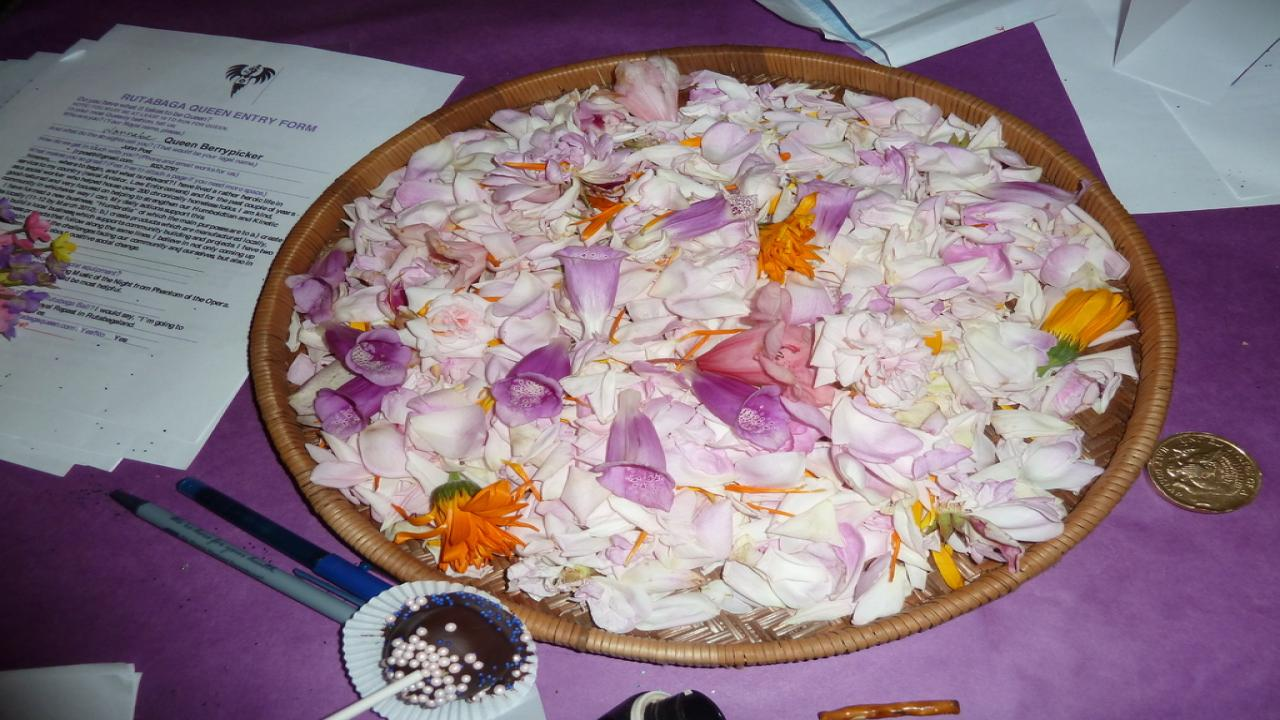coin: (1145, 430, 1261, 515)
